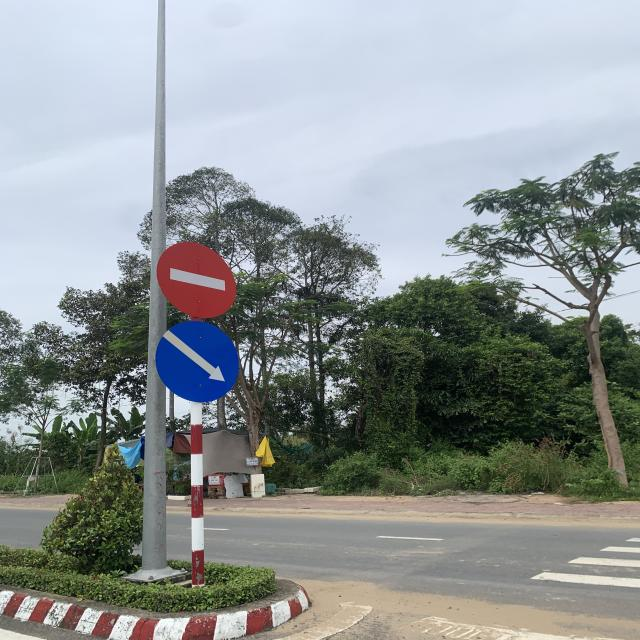Cam_Di_Nguoc_Chieu: (156, 240, 238, 317)
Chi_Huong_Di_Phai: (155, 320, 238, 402)
